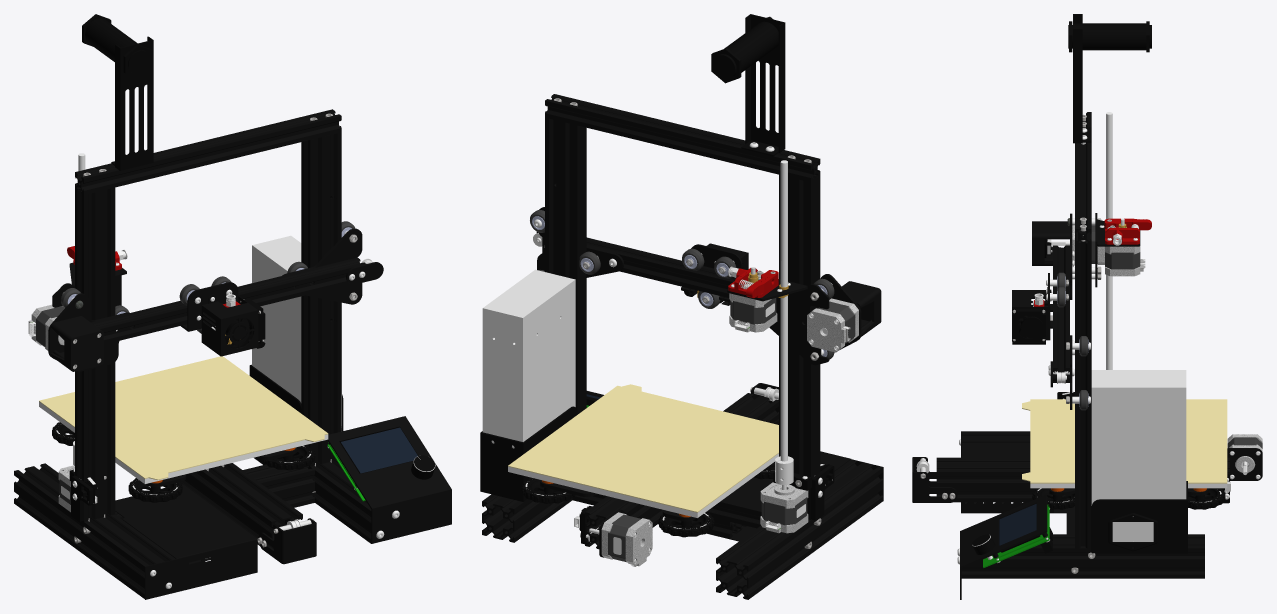
The model's file is ender3ProFinalProjectModel.glb.
3 renders of one model, left to right at view 1: azimuth 30°, elevation 25°; view 2: azimuth 150°, elevation 25°; view 3: azimuth 270°, elevation 25°, orthographic. The views are drawn at different scales.
Parts seen in each view (by area): view 1: Solid1 (×26), 2020 Top Profile, Solid2; view 2: Solid1 (×28), 2020 Top Profile, Solid2; view 3: Solid1 (×25), 2020 Top Profile, Solid2 (×2).
Part boxes in pixels (x1,y1,x2,y2): Solid1 (×26): [14, 18, 451, 599]; 2020 Top Profile: [75, 109, 341, 194]; Solid2: [115, 458, 314, 519]; Solid1 (×28): [480, 14, 883, 599]; 2020 Top Profile: [545, 94, 820, 182]; Solid2: [572, 494, 761, 538]; Solid1 (×25): [912, 14, 1262, 599]; 2020 Top Profile: [1075, 112, 1091, 244]; Solid2 (×2): [983, 227, 1139, 567].
Size of the model in its own units: 0.4441 by 0.6127 by 0.418.
28 materials, 2 textured.
